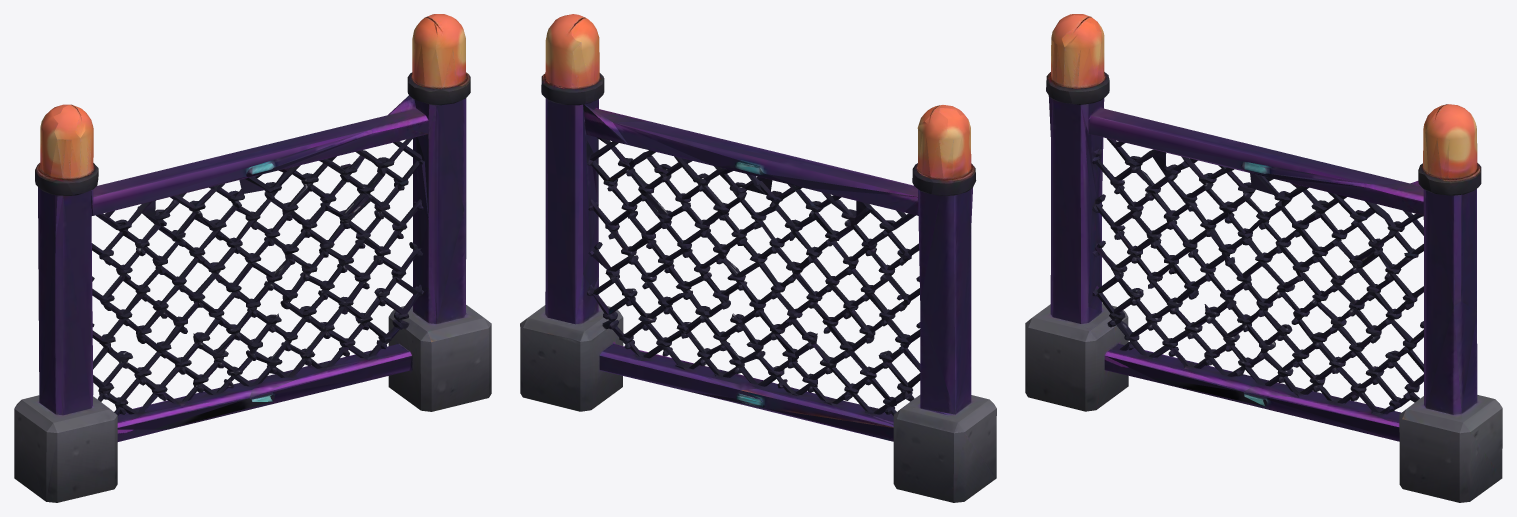
File: prop-barrier.glb
3 views of the same model, side by side, from view 1: azimuth 30°, elevation 25°; view 2: azimuth 150°, elevation 25°; view 3: azimuth 330°, elevation 25° (orthographic).
Parts seen in each view (by area): view 1: output_unwrapped; view 2: output_unwrapped; view 3: output_unwrapped.
Boxes of the visible parts, bbox=[...] form: output_unwrapped: bbox=[14, 14, 491, 502]; output_unwrapped: bbox=[520, 14, 996, 502]; output_unwrapped: bbox=[1025, 14, 1502, 502].
Size of the model in its own units: 1.9 by 1.53 by 0.298.
Materials: 1 (1 with a texture image).
